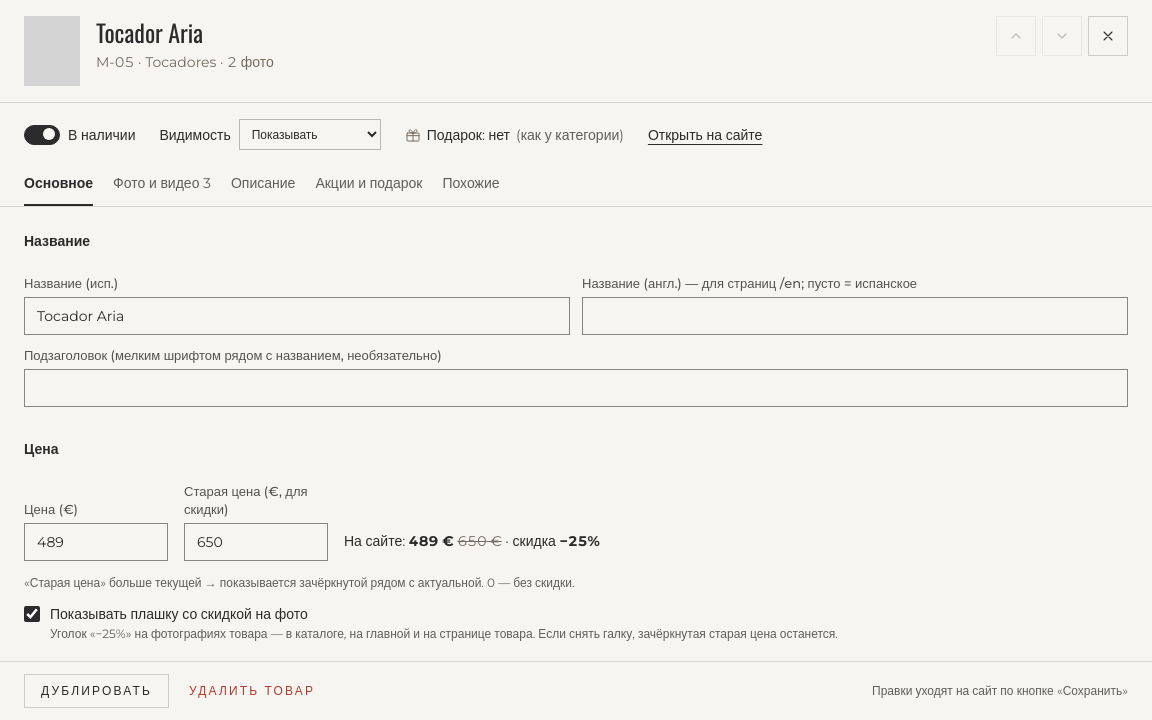
it: ProductPanel — promotions tab › defaults the perk to the original variant and offers every one
Click the tab "Акции и подарок" at (369, 184), box [315,162,422,206]
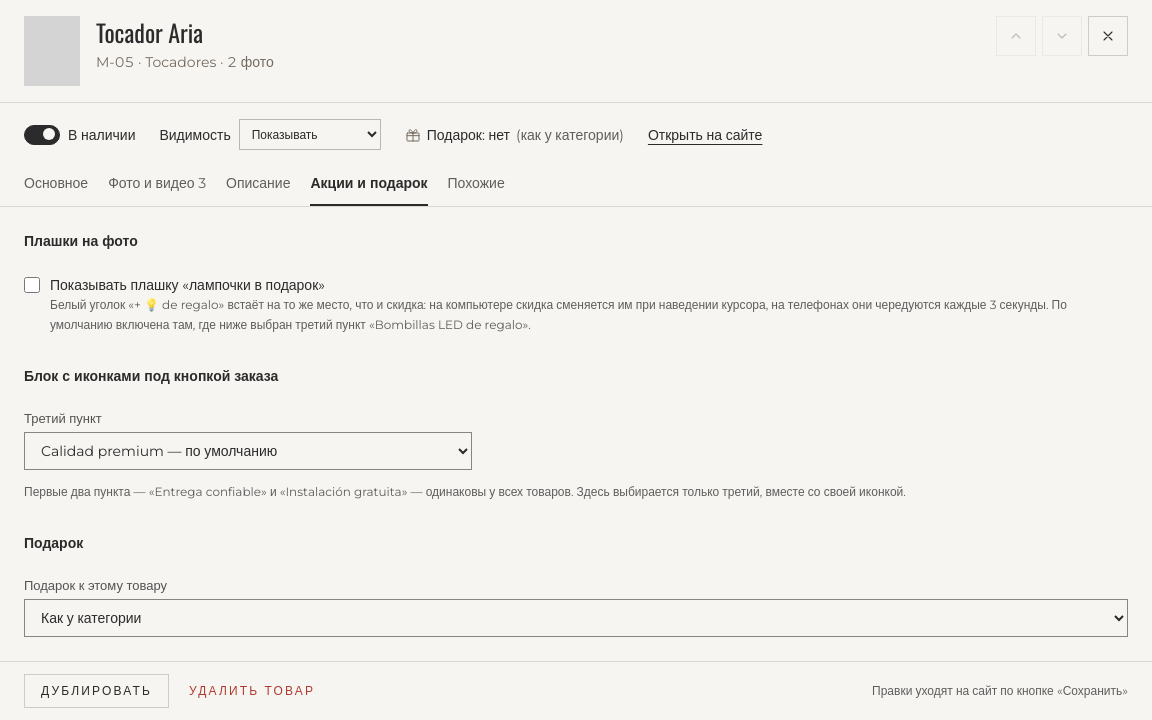
Expected: the dropdown labelled "Третий пункт" shows "Calidad premium — по умолчанию", [24,432,472,470]
